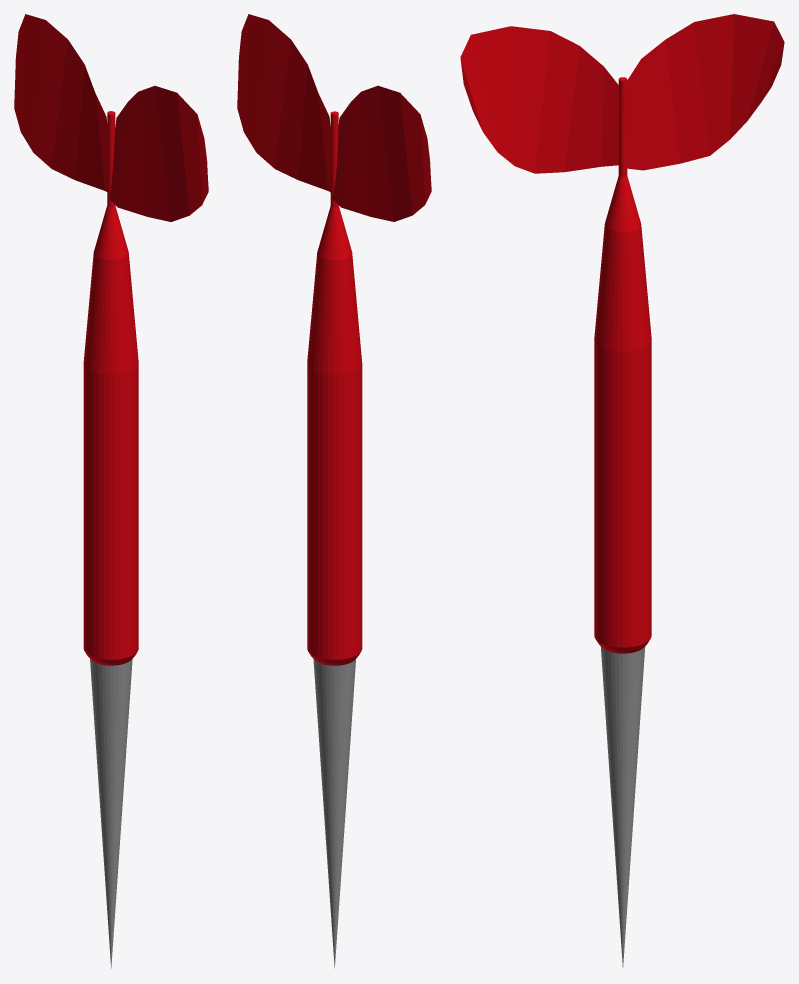
3 renders of one model, left to right at view 1: azimuth 30°, elevation 25°; view 2: azimuth 210°, elevation 25°; view 3: azimuth 270°, elevation 25°, orthographic. The views are drawn at different scales.
Visible parts, largest first — view 1: 円錐; view 2: 円錐; view 3: 円錐.
Boxes of the visible parts, bbox=[...] form: 円錐: bbox=[14, 14, 208, 968]; 円錐: bbox=[237, 14, 431, 968]; 円錐: bbox=[460, 14, 784, 967].
Size of the model in its own units: 22.57 by 322 by 99.54.
